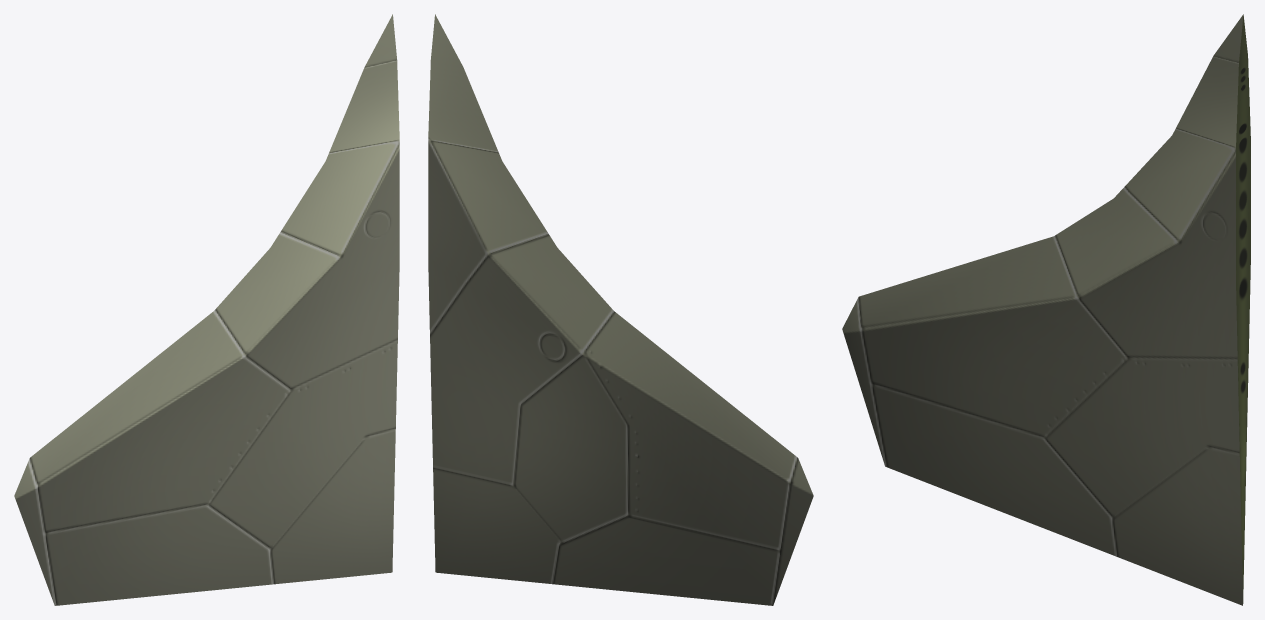
Rendered from winglet.DAE.
3 renders of one model, left to right at view 1: azimuth 30°, elevation 25°; view 2: azimuth 150°, elevation 25°; view 3: azimuth 330°, elevation 25°, orthographic. The views are drawn at different scales.
Parts seen in each view (by area): view 1: wing-Pivot; view 2: wing-Pivot; view 3: wing-Pivot.
Part boxes in pixels (x1=…): wing-Pivot: x1=14, y1=14, x2=399, y2=605; wing-Pivot: x1=428, y1=14, x2=813, y2=605; wing-Pivot: x1=842, y1=14, x2=1250, y2=605.
Size of what is drawn, in the model's own units: 1.2 by 1.69 by 0.0776.
